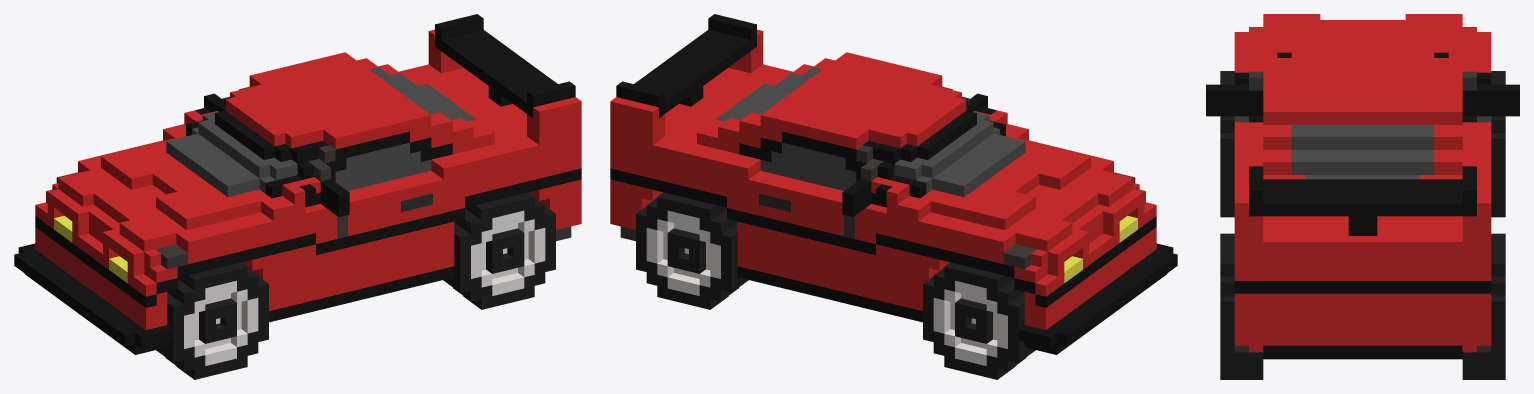
The model's file is redferrari-len2.glb.
The picture shows the model from 3 angles, left to right: view 1: azimuth 30°, elevation 25°; view 2: azimuth 150°, elevation 25°; view 3: azimuth 270°, elevation 25°; orthographic projection. The views are drawn at different scales.
Parts seen in each view (by area): view 1: _0; view 2: _0; view 3: _0.
Part boxes in pixels (x1,y1,x2,y2): _0: (14, 14, 581, 379); _0: (610, 14, 1177, 379); _0: (1206, 14, 1519, 379).
Bounding box in the file's own units: 0.0645 × 0.0255 × 0.033.
